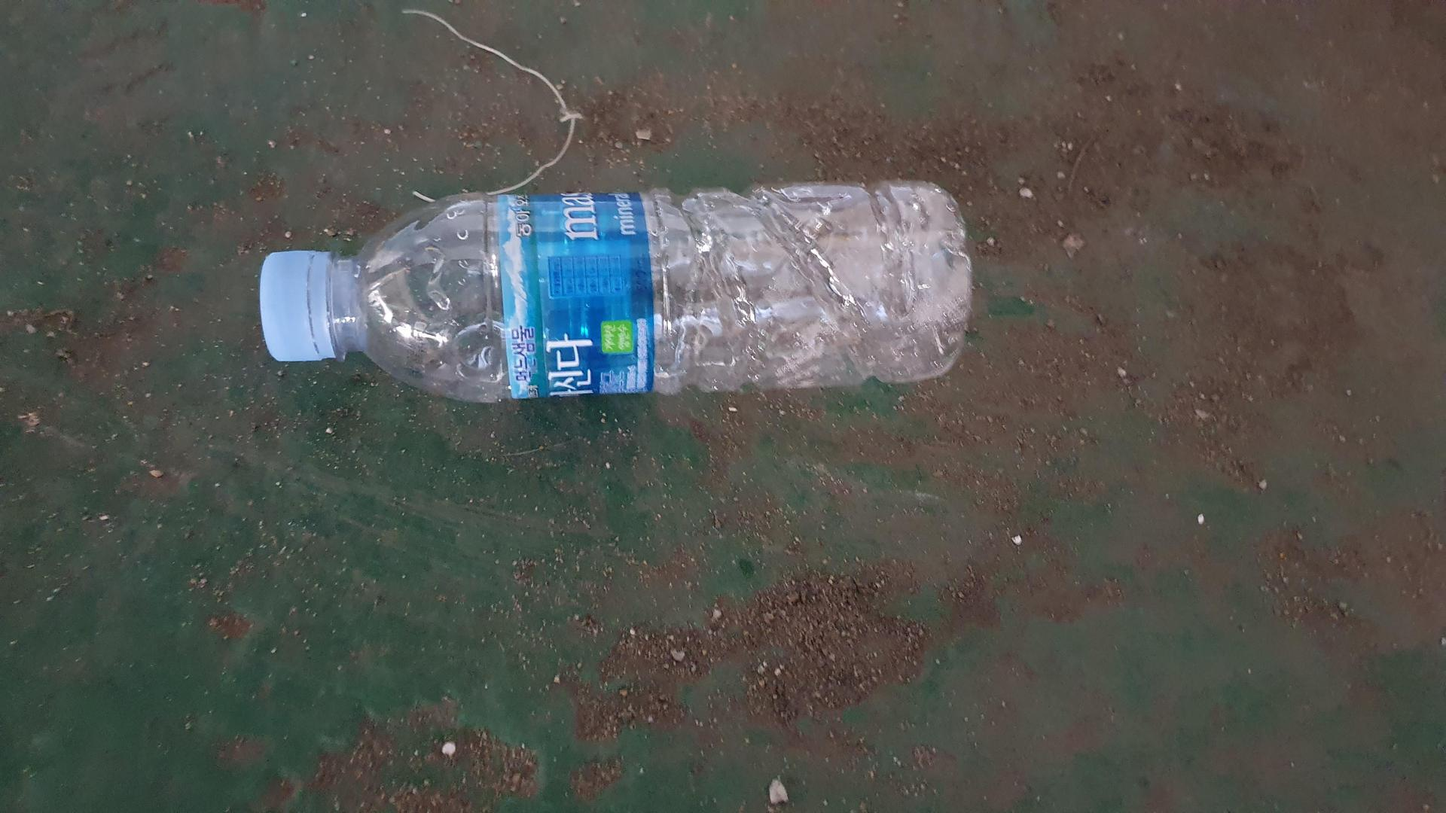plastic_bottle: (258, 182, 972, 403)
